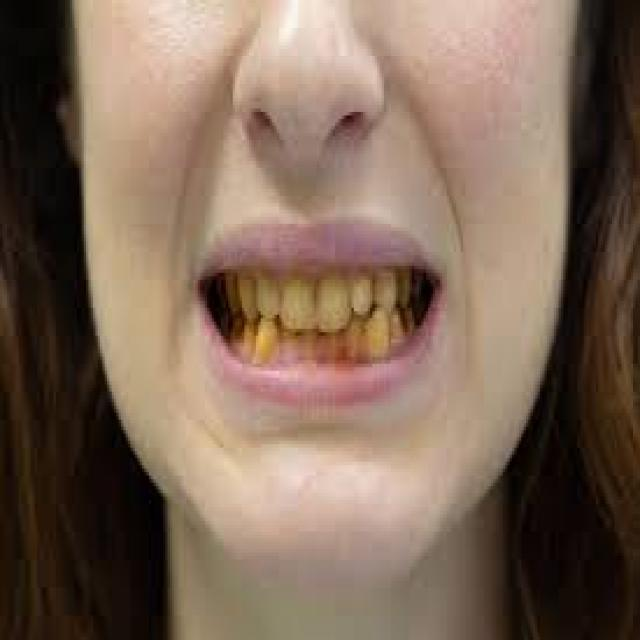Tooth Discoloration: (218, 268, 427, 366)
